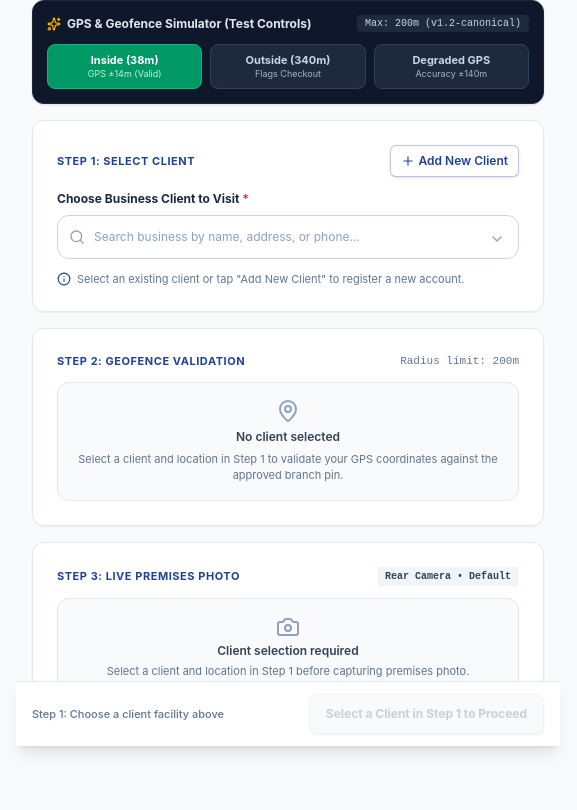
Stage 3C: Client Visits, Geofencing, Photo Evidence & Meeting Logs › 2. Client & Location Selection (PRD §3 Step 1) › displays multi-location selector when a client has multiple registered branches
Focus the field with placeholder "Search business by name, address, or phone...": (288, 237) top-left (57, 215), bottom-right (519, 259)
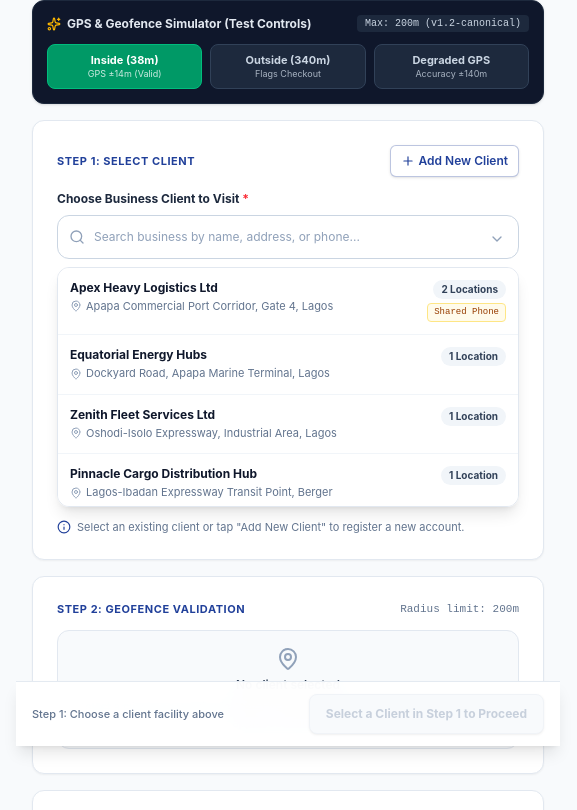
# Apex Heavy Logistics has multiple locations (Apapa & Ikeja)
Click the button "Apex Heavy Logistics Ltd": (288, 302) top-left (58, 268), bottom-right (518, 336)
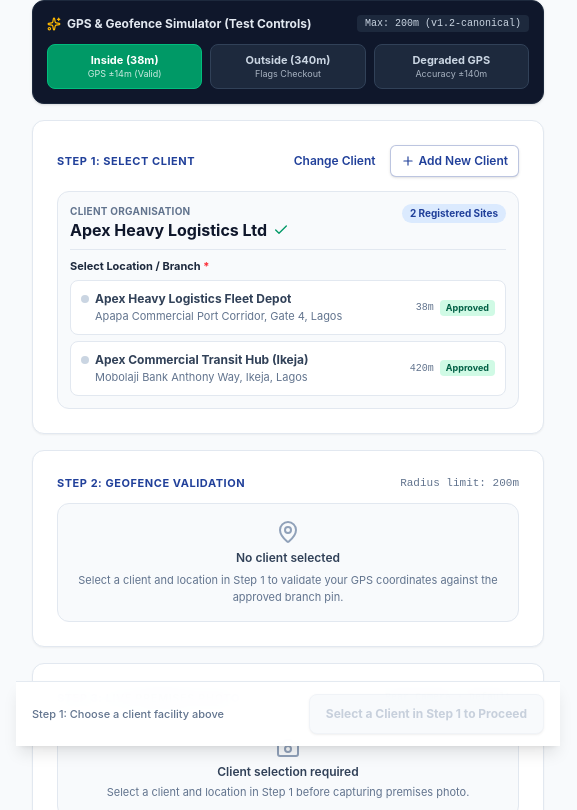
Now the text "Select Location / Branch *" is shown, box top-left (70, 259), bottom-right (209, 273)
Now the text "Apex Heavy Logistics Fleet Depot" is shown, box top-left (95, 292), bottom-right (291, 308)
Now the text "Apex Commercial Transit Hub (Ikeja)" is shown, box top-left (95, 352), bottom-right (308, 368)
